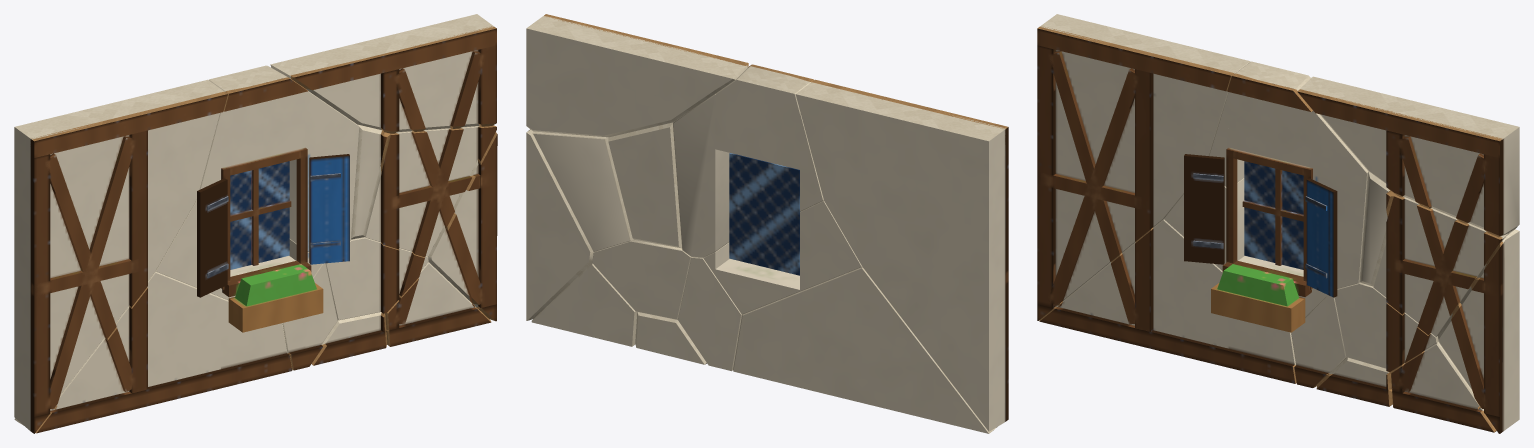
Rendered from Kit_House_Upper1_Fractured.fbx.
The picture shows the model from 3 angles, left to right: view 1: azimuth 30°, elevation 25°; view 2: azimuth 150°, elevation 25°; view 3: azimuth 330°, elevation 25°; orthographic projection.
Parts seen in each view (by area): view 1: Kit_House_Upper1_frag_04, Kit_House_Upper1_frag_09, Kit_House_Upper1_frag_01, Kit_House_Upper1_frag_06, Kit_House_Upper1_frag_05, Kit_House_Upper1_frag_02, Kit_House_Upper1_frag_12, Kit_House_Upper1_frag_07, Kit_House_Upper1_frag_08, Kit_House_Upper1_frag_10, Kit_House_Upper1_frag_11, Kit_House_Upper1_frag_03; view 2: Kit_House_Upper1_frag_04, Kit_House_Upper1_frag_09, Kit_House_Upper1_frag_01, Kit_House_Upper1_frag_06, Kit_House_Upper1_frag_12, Kit_House_Upper1_frag_05, Kit_House_Upper1_frag_10, Kit_House_Upper1_frag_02, Kit_House_Upper1_frag_07, Kit_House_Upper1_frag_08, Kit_House_Upper1_frag_11, Kit_House_Upper1_frag_03; view 3: Kit_House_Upper1_frag_04, Kit_House_Upper1_frag_09, Kit_House_Upper1_frag_06, Kit_House_Upper1_frag_01, Kit_House_Upper1_frag_05, Kit_House_Upper1_frag_02, Kit_House_Upper1_frag_12, Kit_House_Upper1_frag_07, Kit_House_Upper1_frag_08, Kit_House_Upper1_frag_11, Kit_House_Upper1_frag_10, Kit_House_Upper1_frag_03.
Part boxes in pixels (box(x1,y1,x2,y2)): Kit_House_Upper1_frag_04: box(14, 79, 227, 433); Kit_House_Upper1_frag_09: box(200, 65, 359, 269); Kit_House_Upper1_frag_01: box(14, 271, 292, 433); Kit_House_Upper1_frag_06: box(270, 14, 496, 133); Kit_House_Upper1_frag_05: box(155, 166, 323, 332); Kit_House_Upper1_frag_02: box(365, 125, 496, 257); Kit_House_Upper1_frag_12: box(428, 132, 497, 321); Kit_House_Upper1_frag_07: box(325, 237, 428, 320); Kit_House_Upper1_frag_08: box(385, 262, 491, 346); Kit_House_Upper1_frag_10: box(351, 124, 390, 239); Kit_House_Upper1_frag_11: box(282, 263, 337, 370); Kit_House_Upper1_frag_03: box(311, 312, 387, 365); Kit_House_Upper1_frag_04: box(795, 79, 1008, 431); Kit_House_Upper1_frag_09: box(673, 64, 823, 275); Kit_House_Upper1_frag_01: box(733, 267, 996, 433); Kit_House_Upper1_frag_06: box(526, 14, 748, 137); Kit_House_Upper1_frag_12: box(526, 129, 593, 320); Kit_House_Upper1_frag_05: box(703, 200, 862, 314); Kit_House_Upper1_frag_10: box(608, 122, 681, 248); Kit_House_Upper1_frag_02: box(532, 131, 633, 251); Kit_House_Upper1_frag_07: box(592, 240, 691, 319); Kit_House_Upper1_frag_08: box(531, 263, 637, 346); Kit_House_Upper1_frag_11: box(678, 257, 741, 371); Kit_House_Upper1_frag_03: box(635, 312, 706, 364); Kit_House_Upper1_frag_04: box(1037, 14, 1250, 320); Kit_House_Upper1_frag_09: box(1193, 61, 1368, 297); Kit_House_Upper1_frag_06: box(1297, 76, 1519, 237); Kit_House_Upper1_frag_01: box(1039, 219, 1296, 383); Kit_House_Upper1_frag_05: box(1164, 147, 1327, 332); Kit_House_Upper1_frag_02: box(1373, 195, 1508, 336); Kit_House_Upper1_frag_12: box(1437, 229, 1519, 433); Kit_House_Upper1_frag_07: box(1334, 282, 1438, 372); Kit_House_Upper1_frag_08: box(1390, 342, 1496, 432); Kit_House_Upper1_frag_11: box(1291, 295, 1346, 387); Kit_House_Upper1_frag_10: box(1359, 171, 1397, 286); Kit_House_Upper1_frag_03: box(1316, 357, 1392, 406).
Size of what is drawn, in the model's own units: 4.61 by 2.79 by 0.6404.
Materials: 2 (2 with a texture image).
